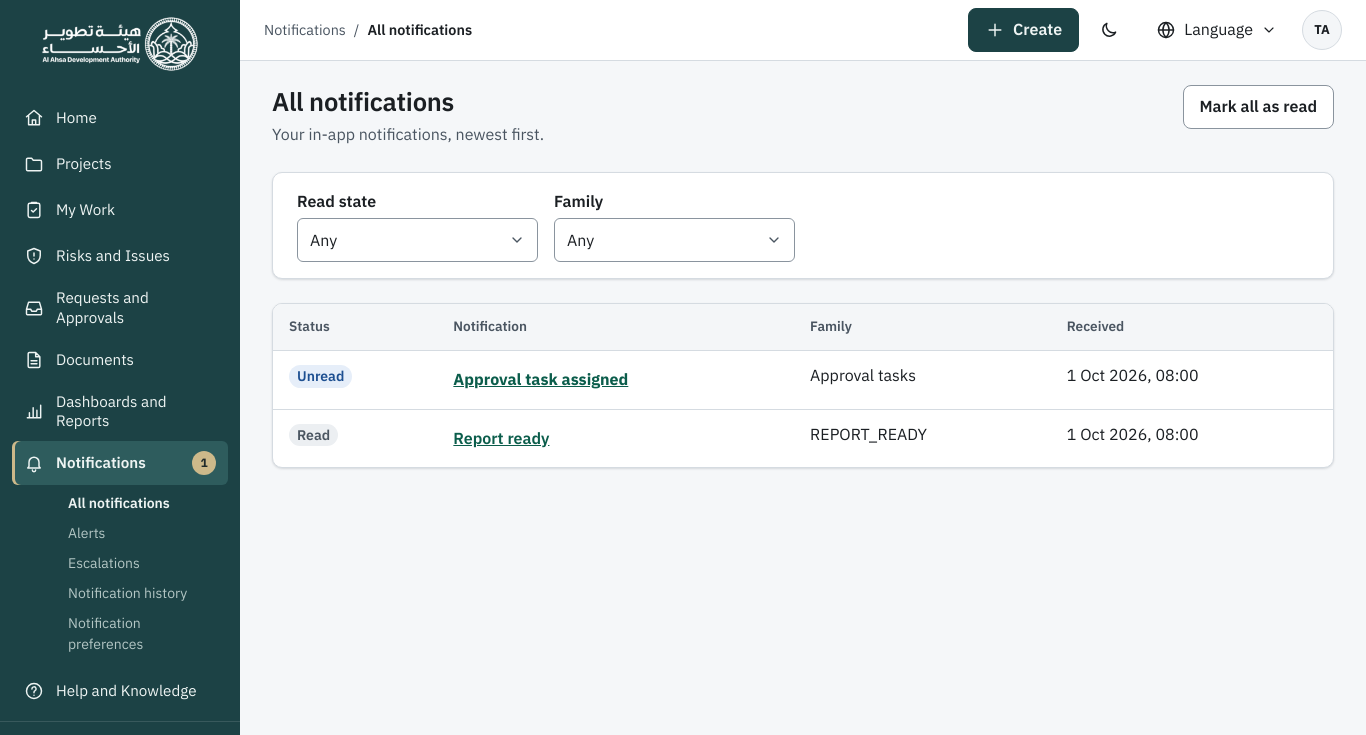
Test: MOD-071 Mark All Read › a refusal stays in the dialog and changes nothing
Expected: the table is shown, [273,304,1333,467]
Click the button "Mark all as read".
click(1258, 107)  # box [1182,85,1334,129]
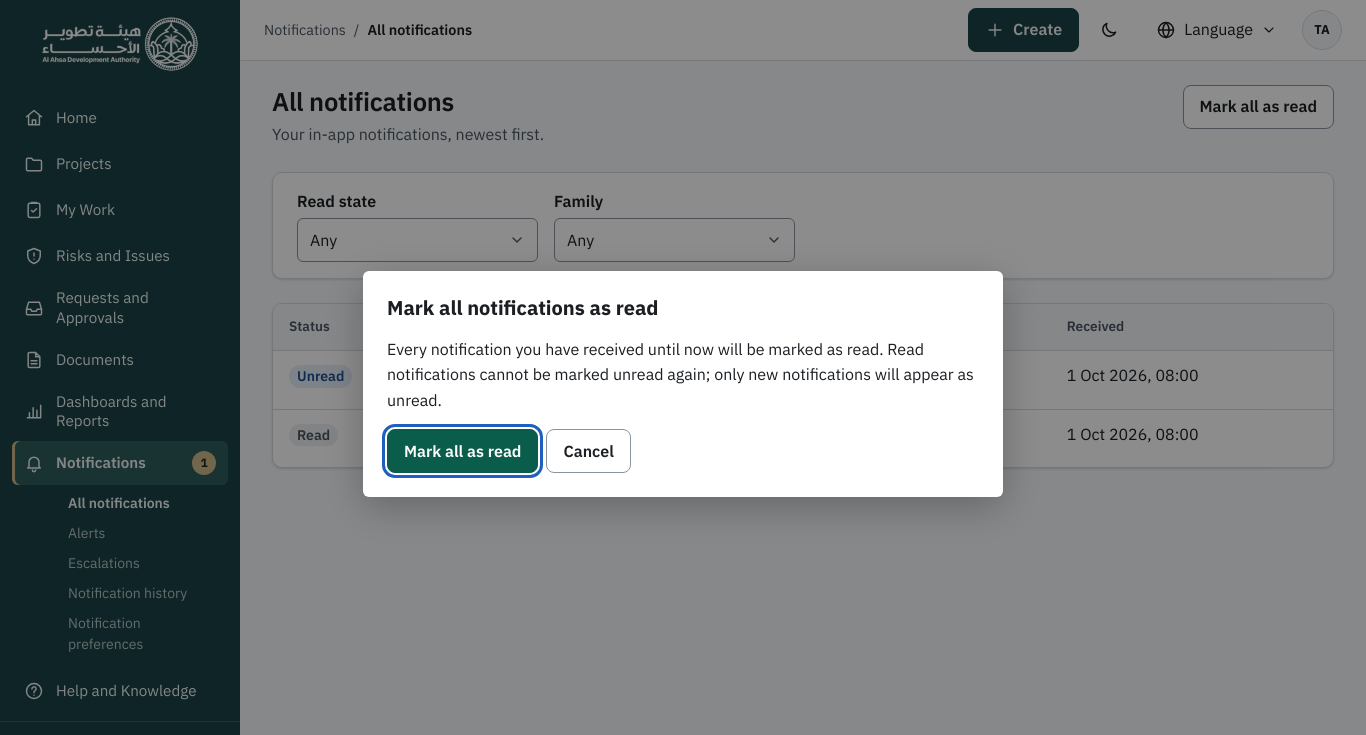
Click the button "Mark all as read".
click(463, 451)  # box [387,429,538,473]
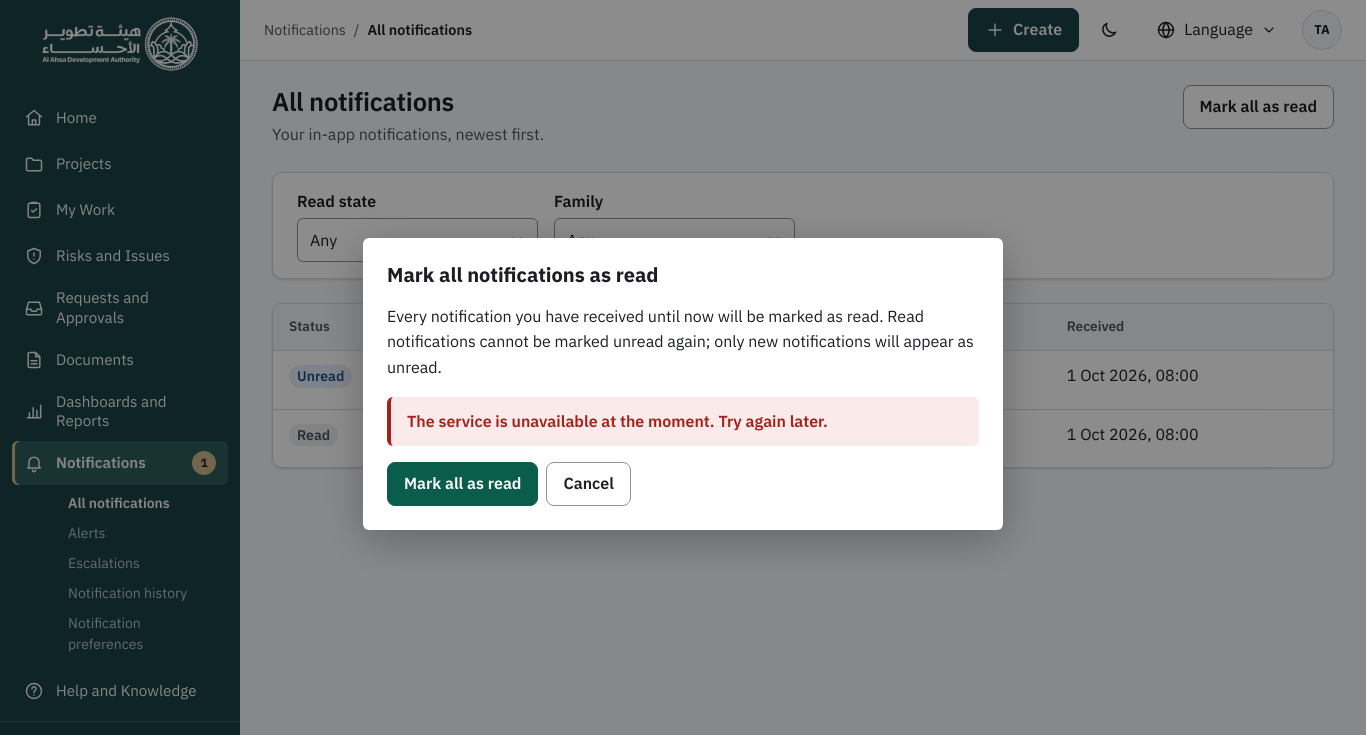
Result: the message reads "The service is unavailable at the moment. Try again later." at [407,411,828,431]
